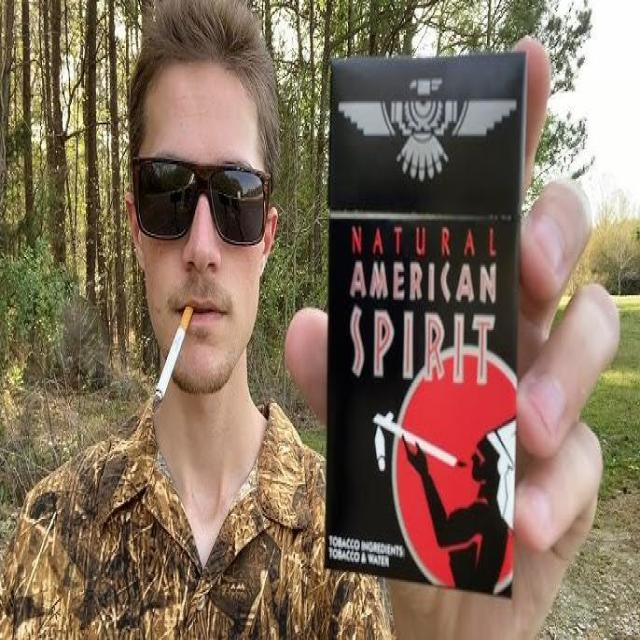cigarette: (155, 307, 193, 398)
